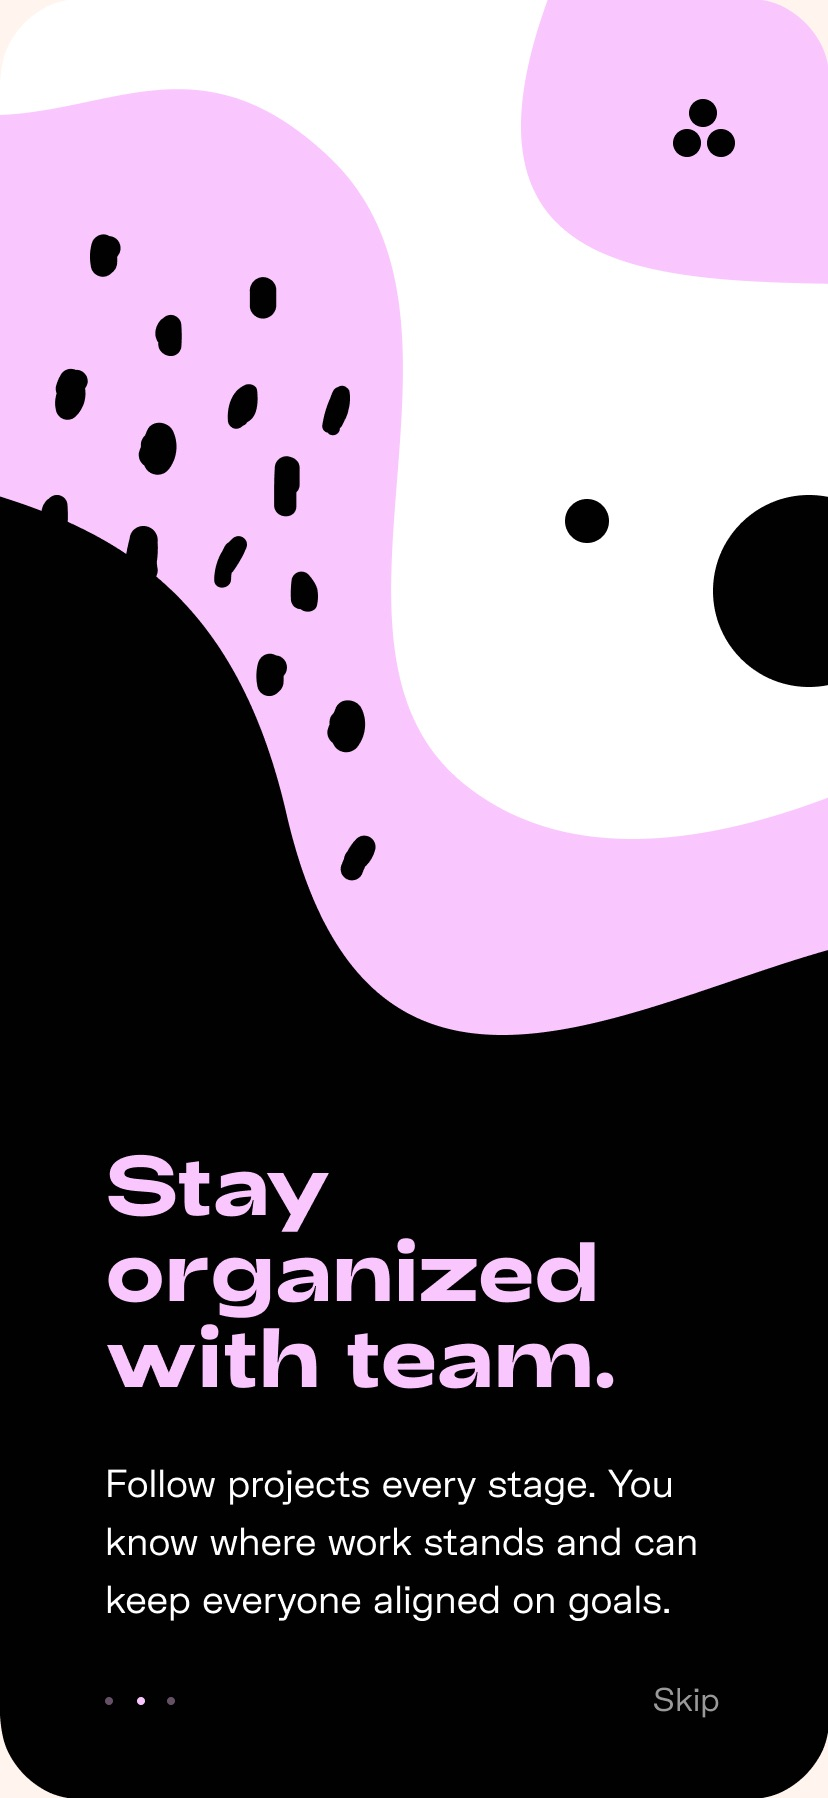BackgroundImage: (1, 5, 828, 1798)
PageIndicator: (106, 1696, 177, 1706)
Text: (107, 1154, 615, 1389), (107, 1468, 696, 1623), (653, 1686, 719, 1718)
